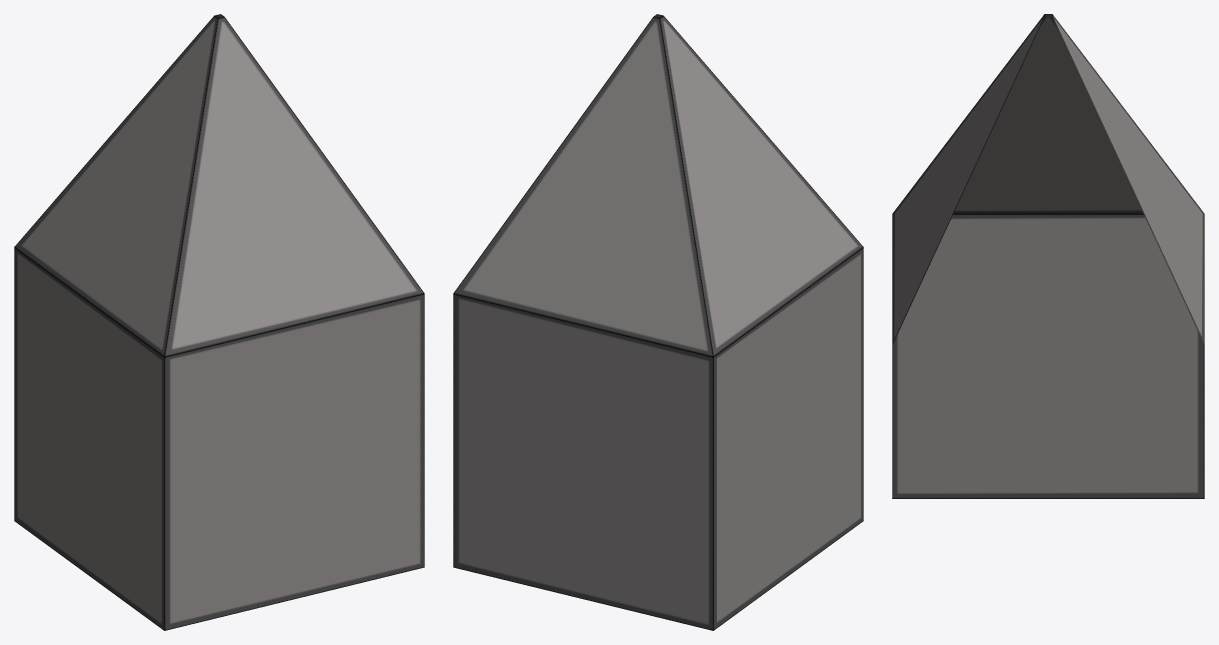
Rendered from Spike.fbx.
The picture shows the model from 3 angles, left to right: view 1: azimuth 30°, elevation 25°; view 2: azimuth 150°, elevation 25°; view 3: azimuth 270°, elevation 25°; orthographic projection. The views are drawn at different scales.
Visible parts, largest first — view 1: Cube; view 2: Cube; view 3: Cube.
Boxes of the visible parts, x1,y1,x2,y2 form: Cube: (14,14,424,630); Cube: (453,14,863,630); Cube: (892,14,1204,498).
Bounding box in the file's own units: 398 × 772 × 398.
